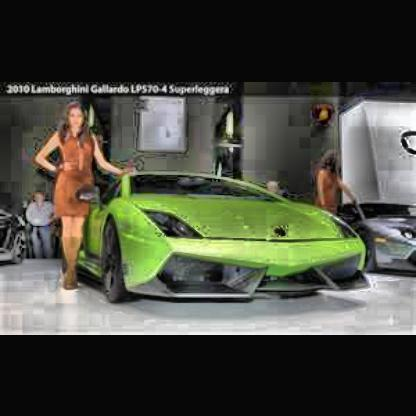Lamborghini Gallardo LP 570-4 Superleggera 2012: (63, 169, 373, 307)
